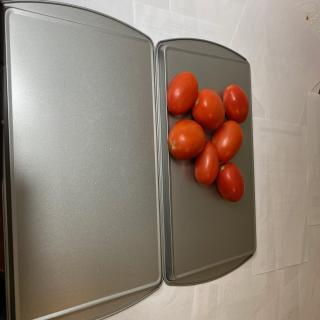Chilli: (166, 71, 249, 202)
Tomato: (168, 119, 205, 161), (191, 88, 225, 130), (166, 71, 198, 115), (212, 120, 243, 163), (216, 162, 245, 202), (194, 140, 219, 185), (223, 84, 249, 123)
